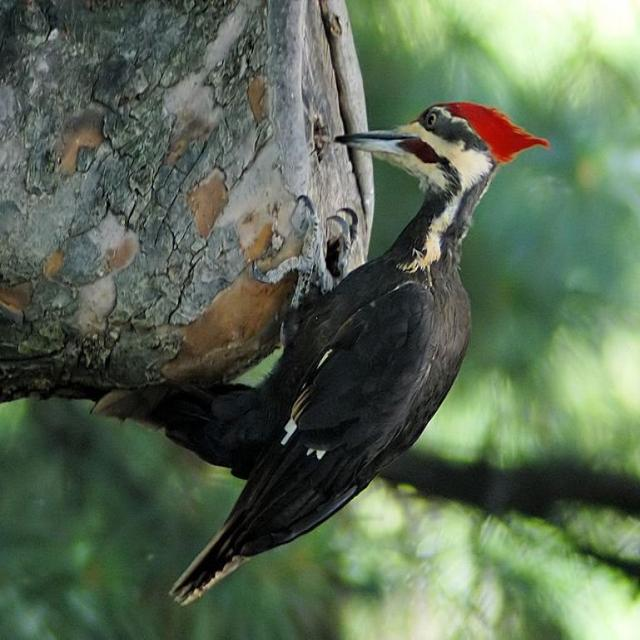Woodpecker: (163, 94, 549, 604)
